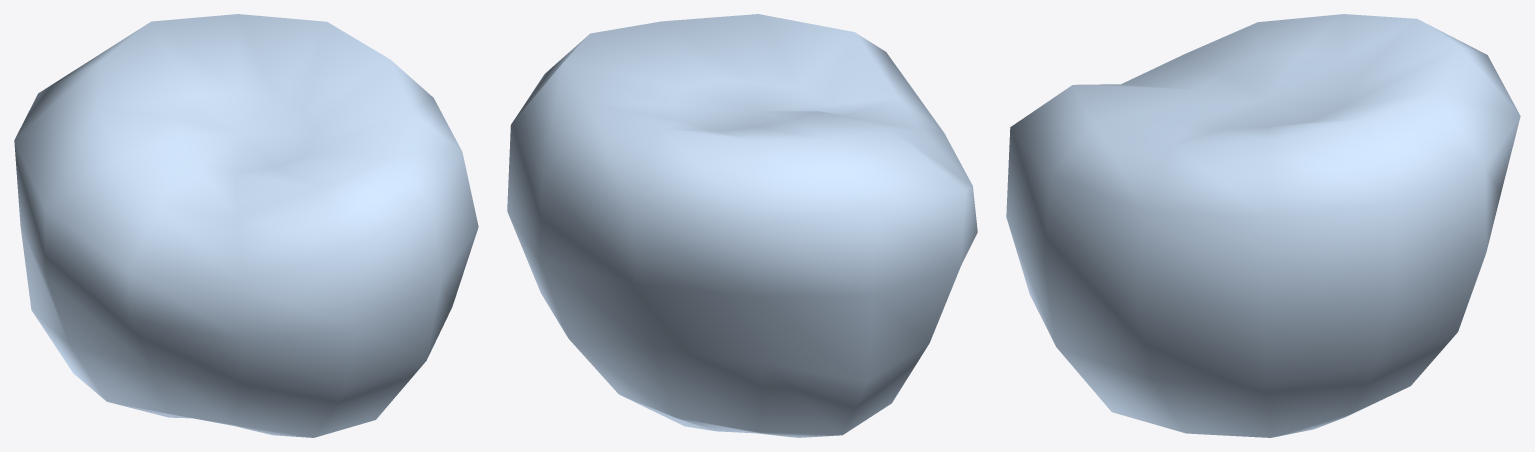
File: lAsteroid2_coll.obj
The picture shows the model from 3 angles, left to right: view 1: azimuth 30°, elevation 25°; view 2: azimuth 150°, elevation 25°; view 3: azimuth 270°, elevation 25°; orthographic projection. The views are drawn at different scales.
Parts seen in each view (by area): view 1: sphere2; view 2: sphere2; view 3: sphere2.
Boxes of the visible parts, left/top/right/bottom form: sphere2: left=14, top=14, right=478, bottom=437; sphere2: left=507, top=14, right=977, bottom=437; sphere2: left=1006, top=14, right=1520, bottom=437.
Size of the model in its own units: 24.09 by 18.83 by 24.44.
